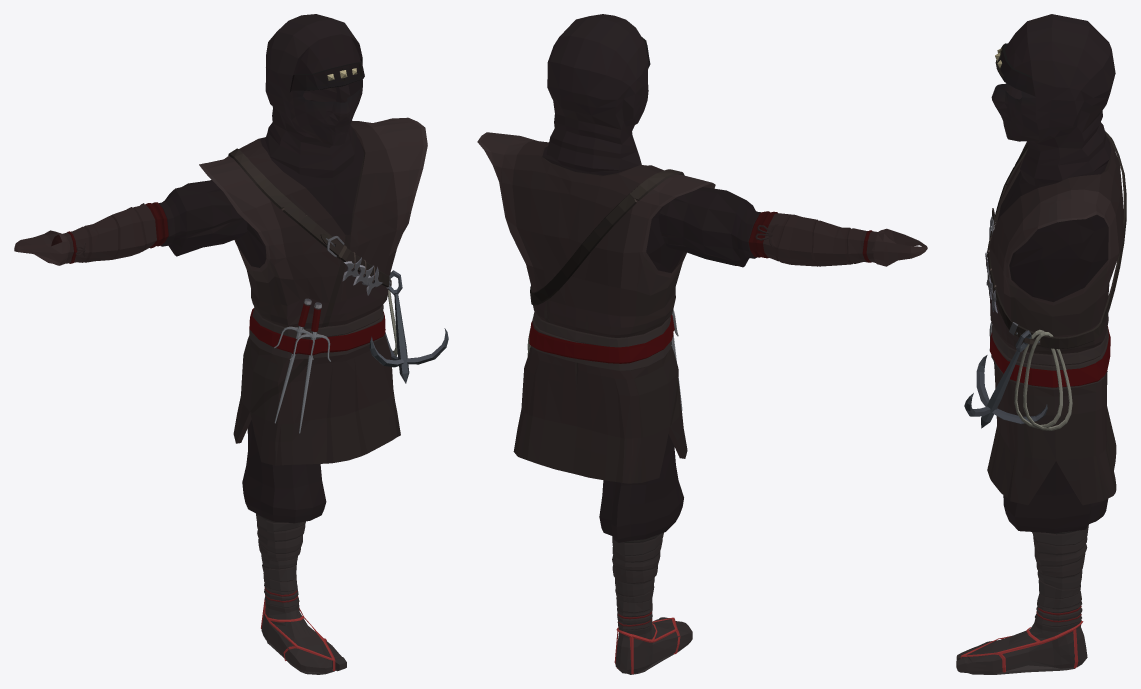
Rendered from ninja.glb.
3 views of the same model, side by side, from view 1: azimuth 30°, elevation 25°; view 2: azimuth 150°, elevation 25°; view 3: azimuth 270°, elevation 25° (orthographic). The views are drawn at different scales.
Parts seen in each view (by area): view 1: ninjaBody, ninjaHoodDetailed, ninjaUpperLeg, ninjaUpperArm, ninjaLowerArm, ninjaLowerLeg, ninjaFoot, ninjaGlove; view 2: ninjaBody, ninjaHoodDetailed, ninjaUpperArm, ninjaLowerArm, ninjaUpperLeg, ninjaLowerLeg, ninjaFoot, ninjaGlove; view 3: ninjaBody, ninjaHoodDetailed, ninjaFoot, ninjaLowerLeg, ninjaUpperLeg.
Part boxes in pixels (box(x1,y1,x2,y2)): ninjaBody: box(199, 117, 448, 465); ninjaHoodDetailed: box(265, 14, 364, 177); ninjaUpperLeg: box(242, 420, 326, 523); ninjaUpperArm: box(158, 180, 247, 256); ninjaLowerArm: box(51, 202, 168, 263); ninjaLowerLeg: box(256, 513, 305, 612); ninjaFoot: box(261, 599, 346, 674); ninjaGlove: box(14, 230, 69, 265); ninjaBody: box(477, 132, 715, 483); ninjaHoodDetailed: box(546, 14, 650, 172); ninjaUpperArm: box(658, 187, 760, 267); ninjaLowerArm: box(748, 211, 877, 266); ninjaUpperLeg: box(599, 434, 683, 542); ninjaLowerLeg: box(612, 533, 663, 635); ninjaFoot: box(614, 617, 692, 674); ninjaGlove: box(871, 228, 927, 266); ninjaBody: box(964, 131, 1126, 505); ninjaHoodDetailed: box(991, 14, 1115, 185); ninjaFoot: box(956, 621, 1087, 674); ninjaLowerLeg: box(1032, 524, 1088, 632); ninjaUpperLeg: box(1003, 461, 1108, 533).
Size of the model in its own units: 1.39 by 1.96 by 0.4573.
